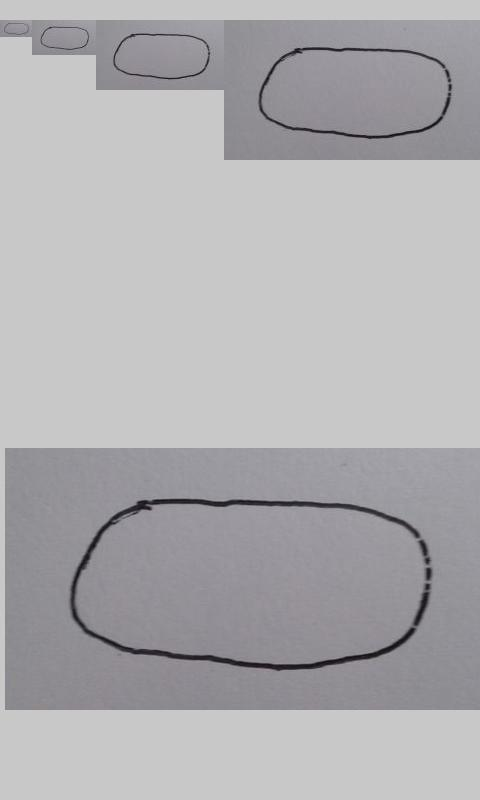chip: (69, 498, 435, 671), (258, 45, 453, 140), (113, 33, 211, 80), (40, 26, 90, 51), (4, 22, 30, 36)
